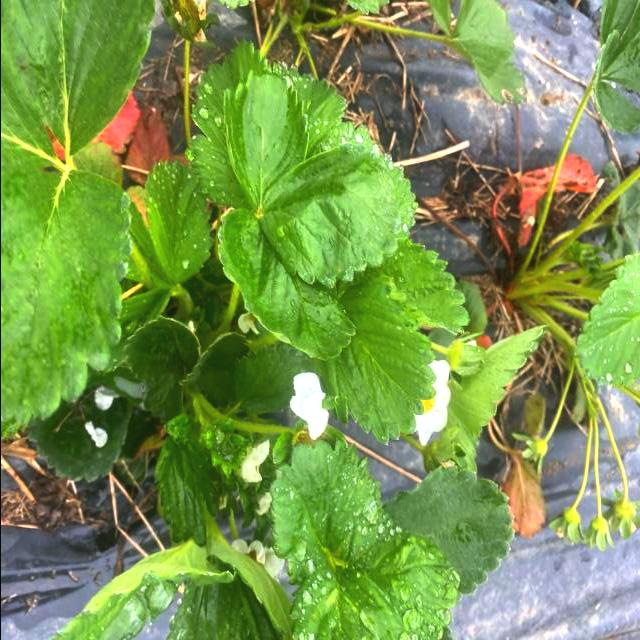flower: (414, 364, 452, 449), (294, 374, 326, 446)
